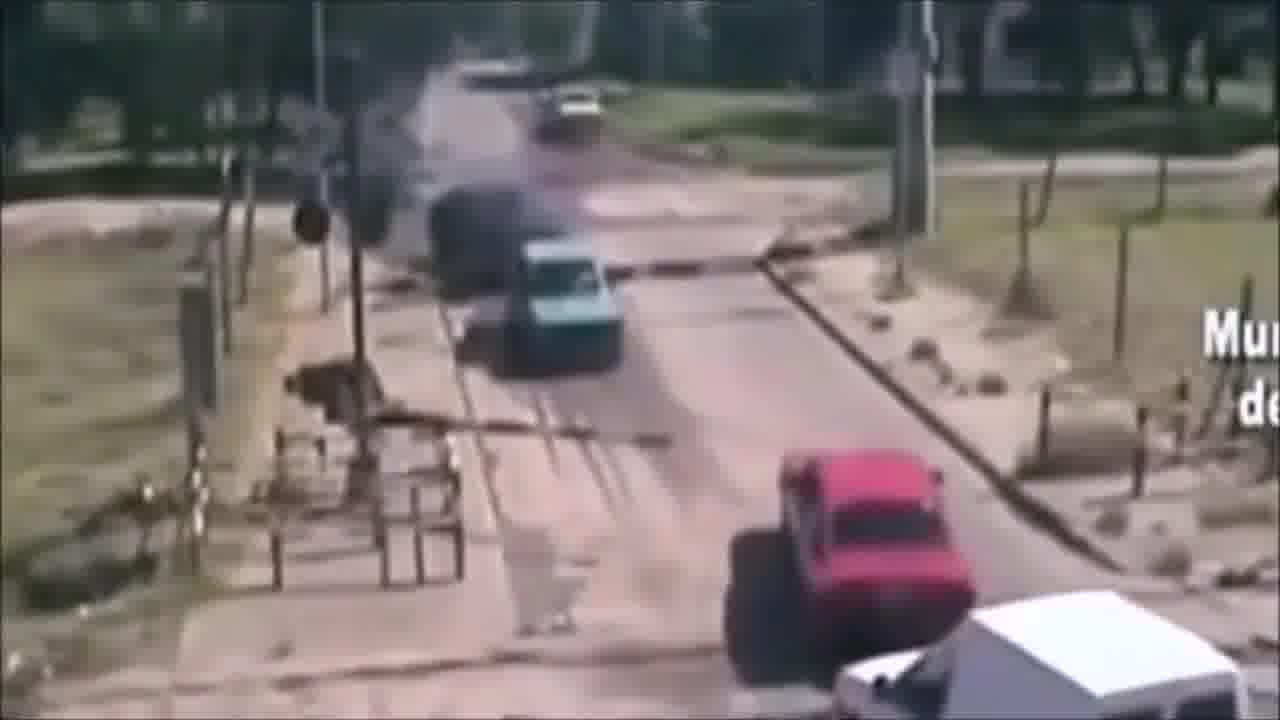crossing railway track: (739, 407, 1032, 694)
